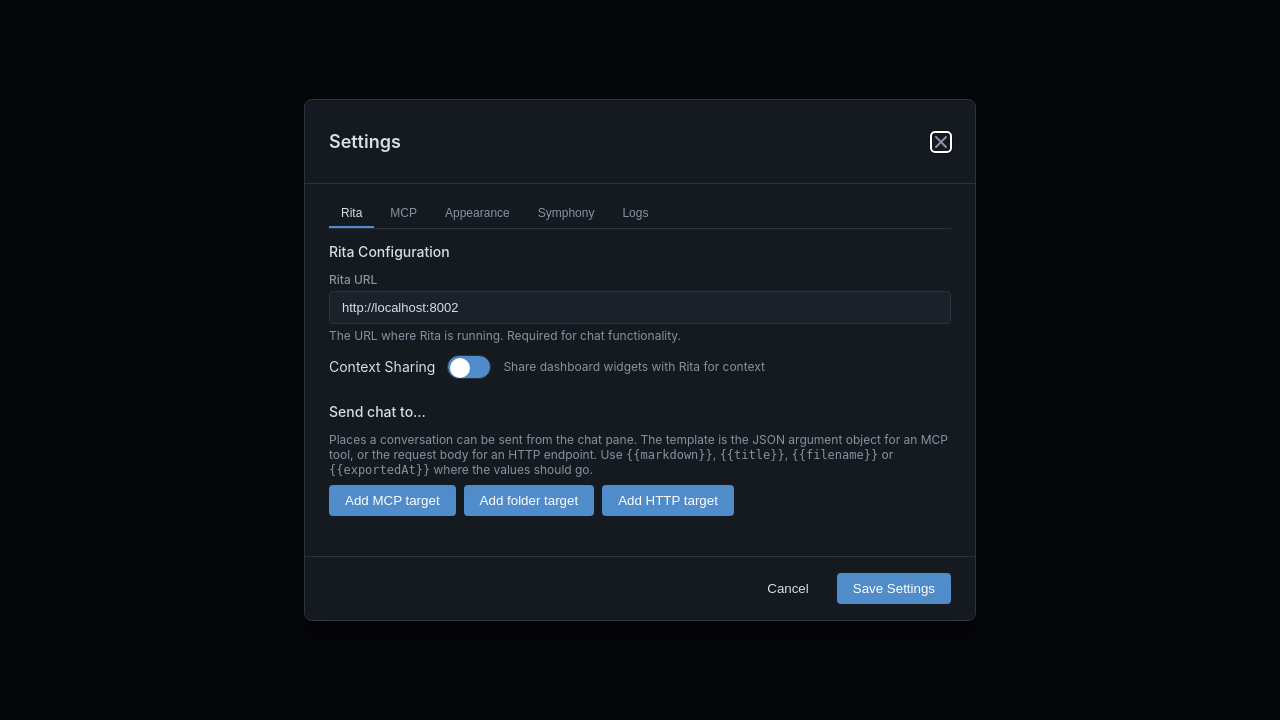
Scenario: SettingsDialog › tabs › swaps the panel when another tab is clicked
Check: the field labelled "Rita URL" is shown, box [329, 291, 951, 324]
Click the tab "MCP".
click(404, 214)  # box [378, 200, 429, 228]
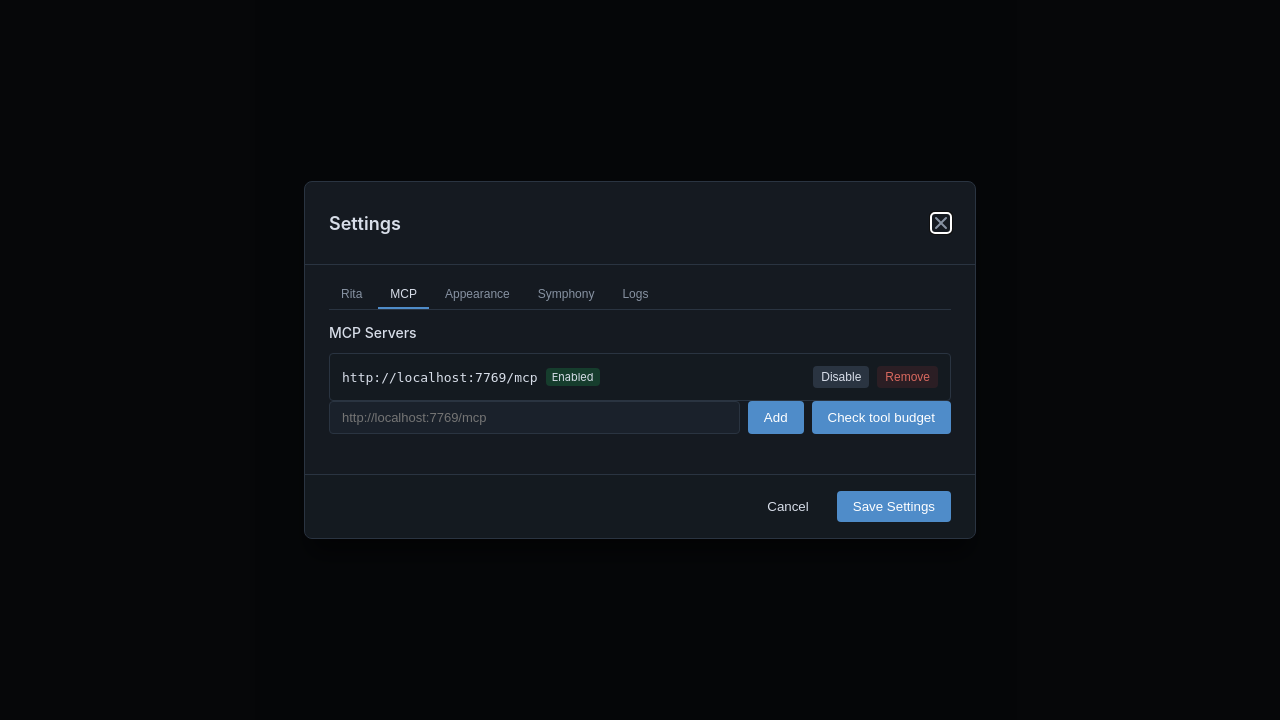
Check: the label labelled "Rita URL" is gone
Check: the field named "New MCP server URL" is shown, box [329, 401, 740, 434]
